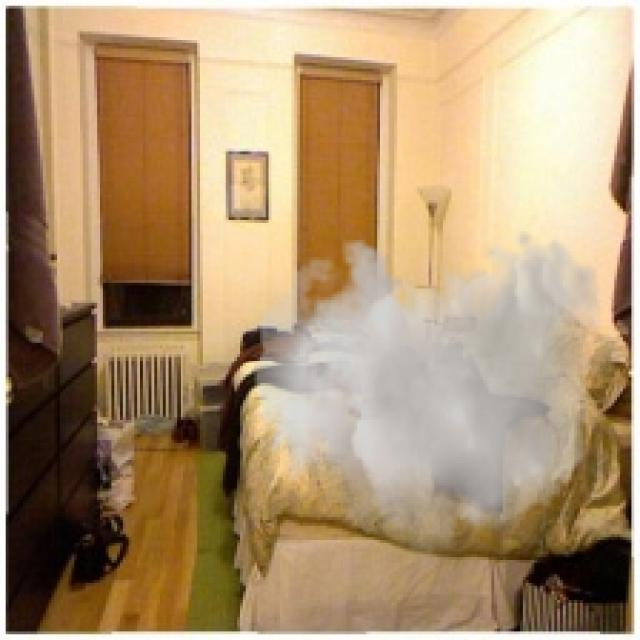smoke: (254, 226, 603, 577)
